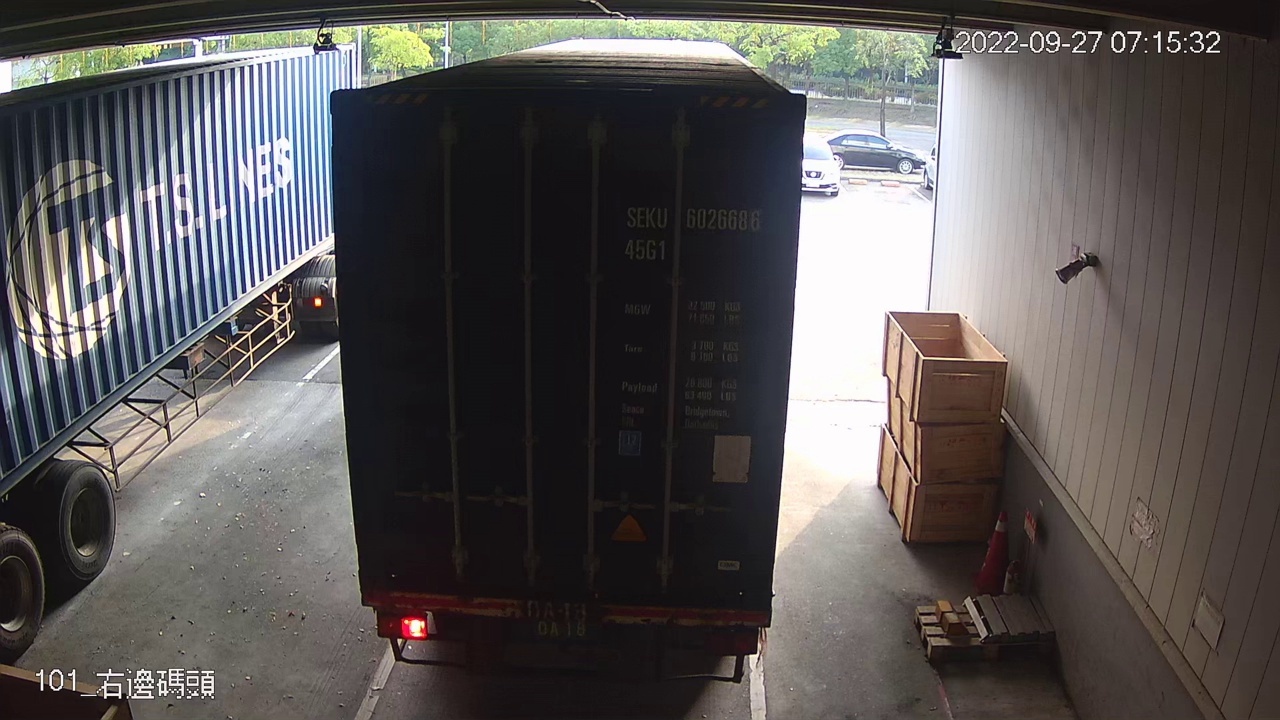container: (610, 193, 767, 272)
